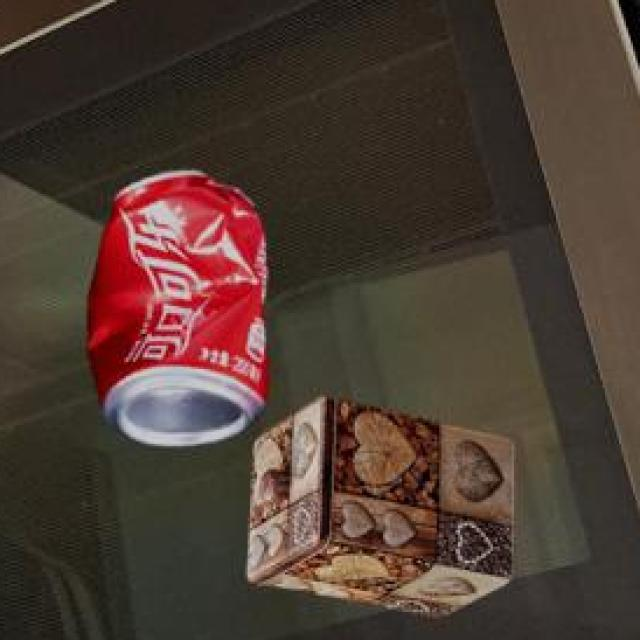logam: (251, 401, 517, 620), (92, 174, 272, 450)
